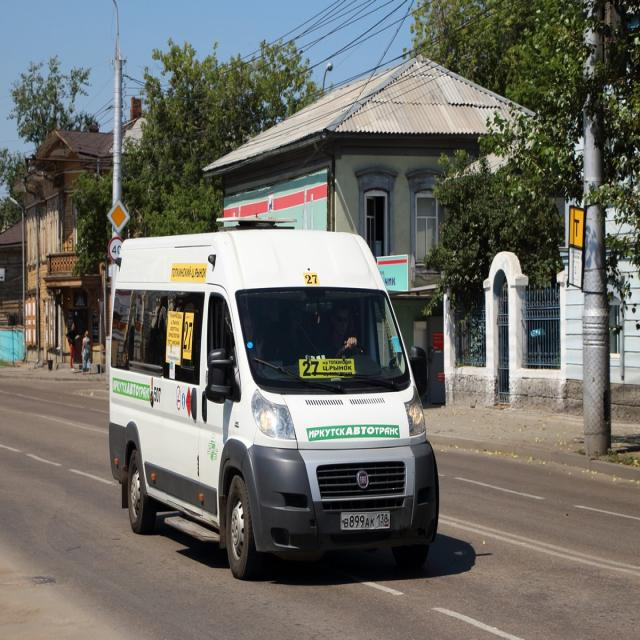number-of-bus: (303, 359, 321, 379), (185, 322, 194, 351), (305, 274, 319, 286)
